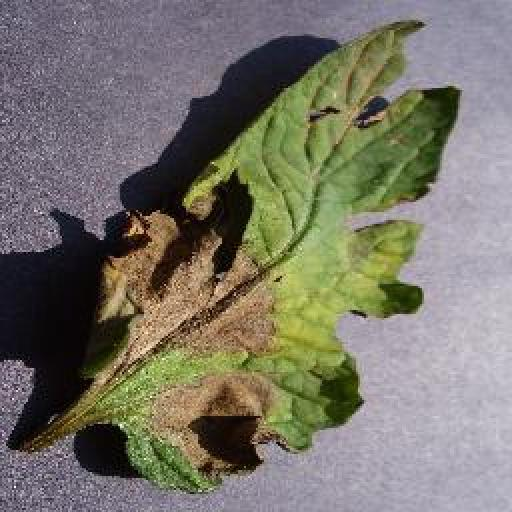Late Blight: (84, 15, 467, 496)
